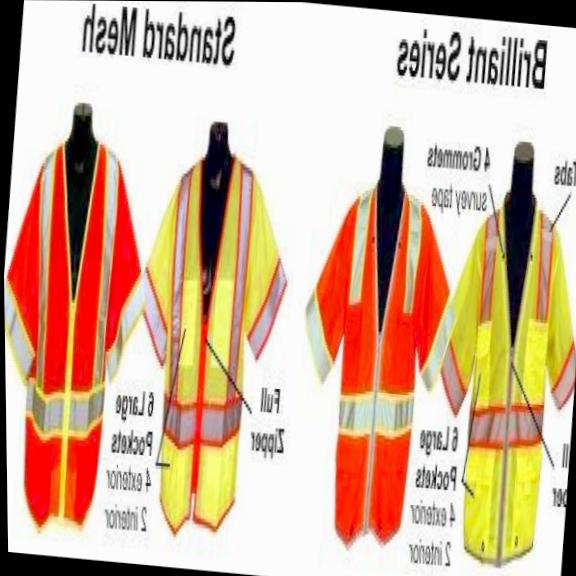safety_vest: (281, 168, 467, 565), (118, 143, 301, 540), (2, 130, 164, 533), (420, 193, 576, 576)
